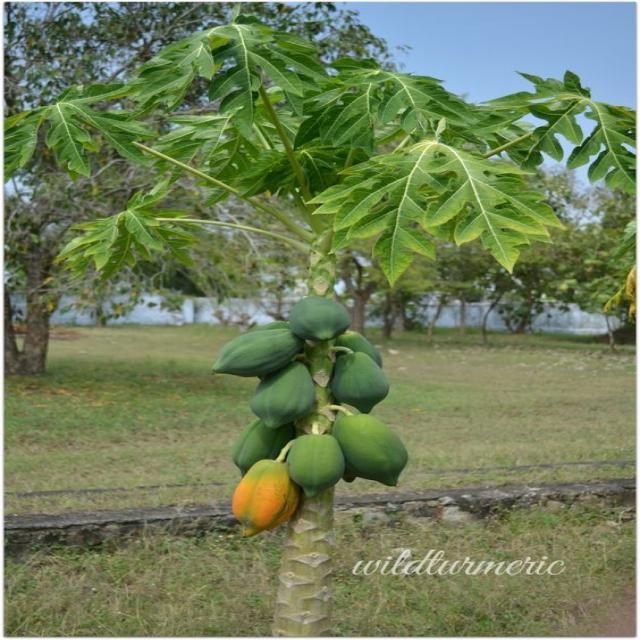Papaya-Tree: (11, 19, 640, 534)
